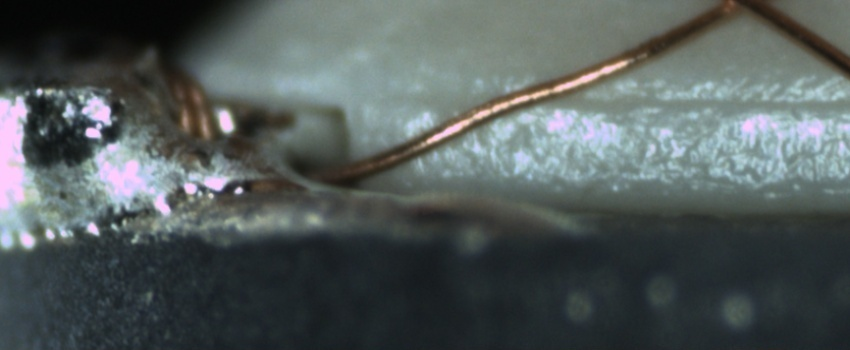CL: (704, 0, 782, 21)
DL: (394, 73, 849, 131)
TE: (161, 69, 222, 147)
